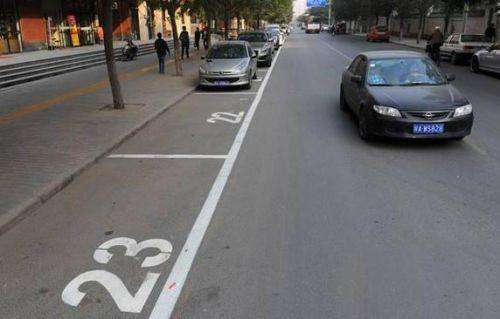slot_nocar: (4, 145, 255, 319), (99, 86, 268, 171)
